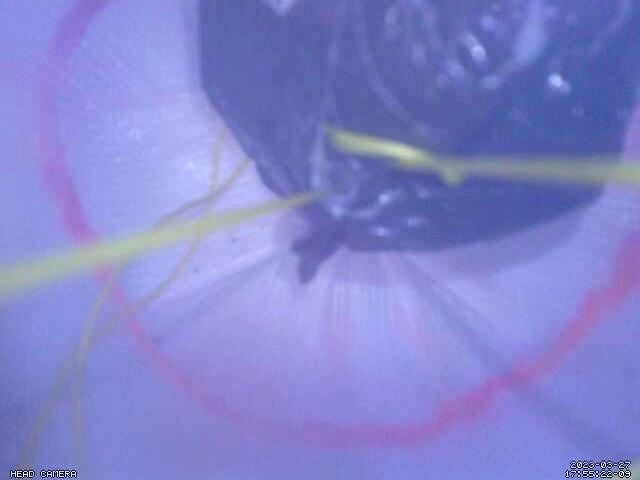head: (32, 1, 640, 445)
